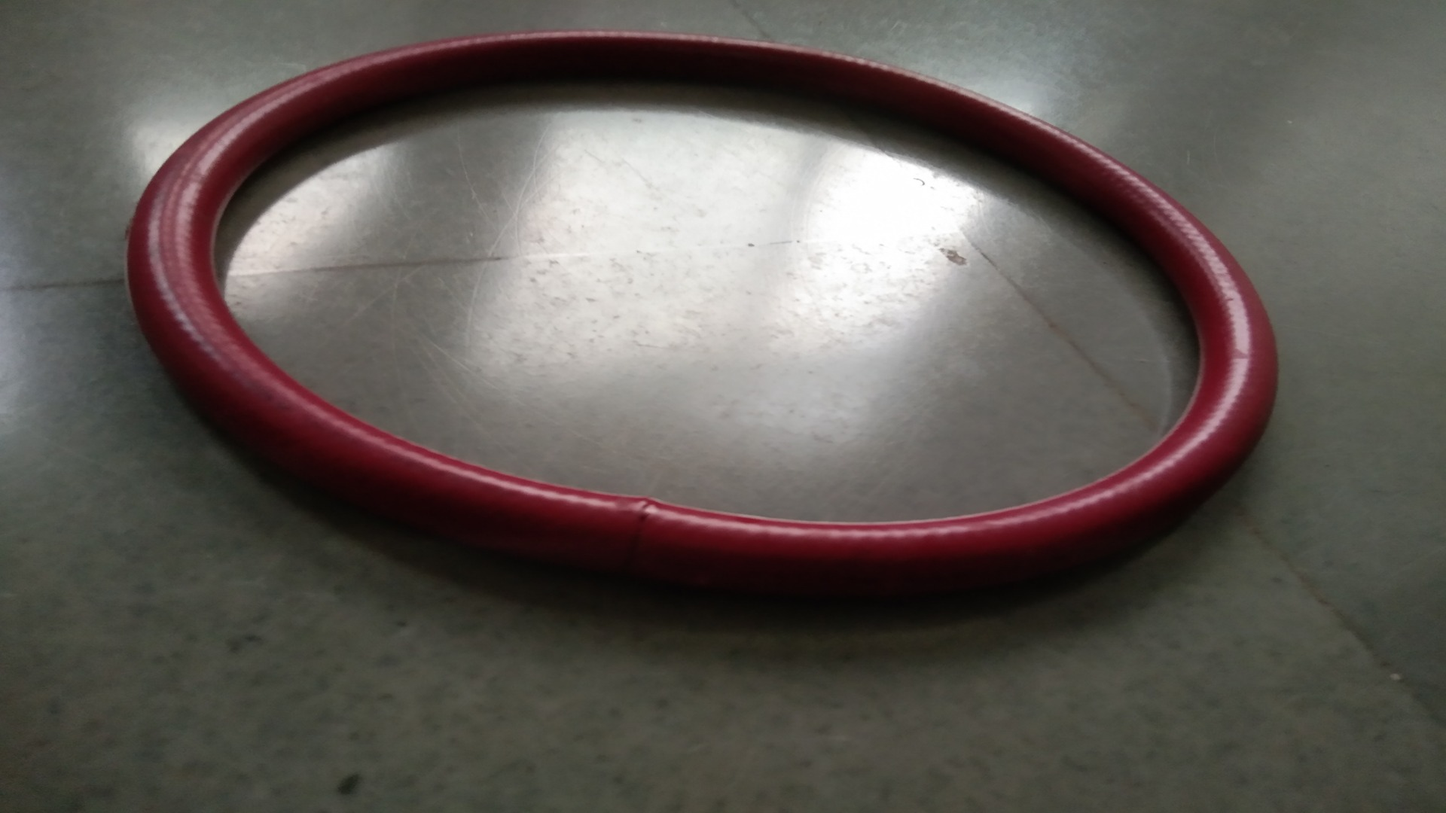Red ring: (125, 29, 1279, 591)
